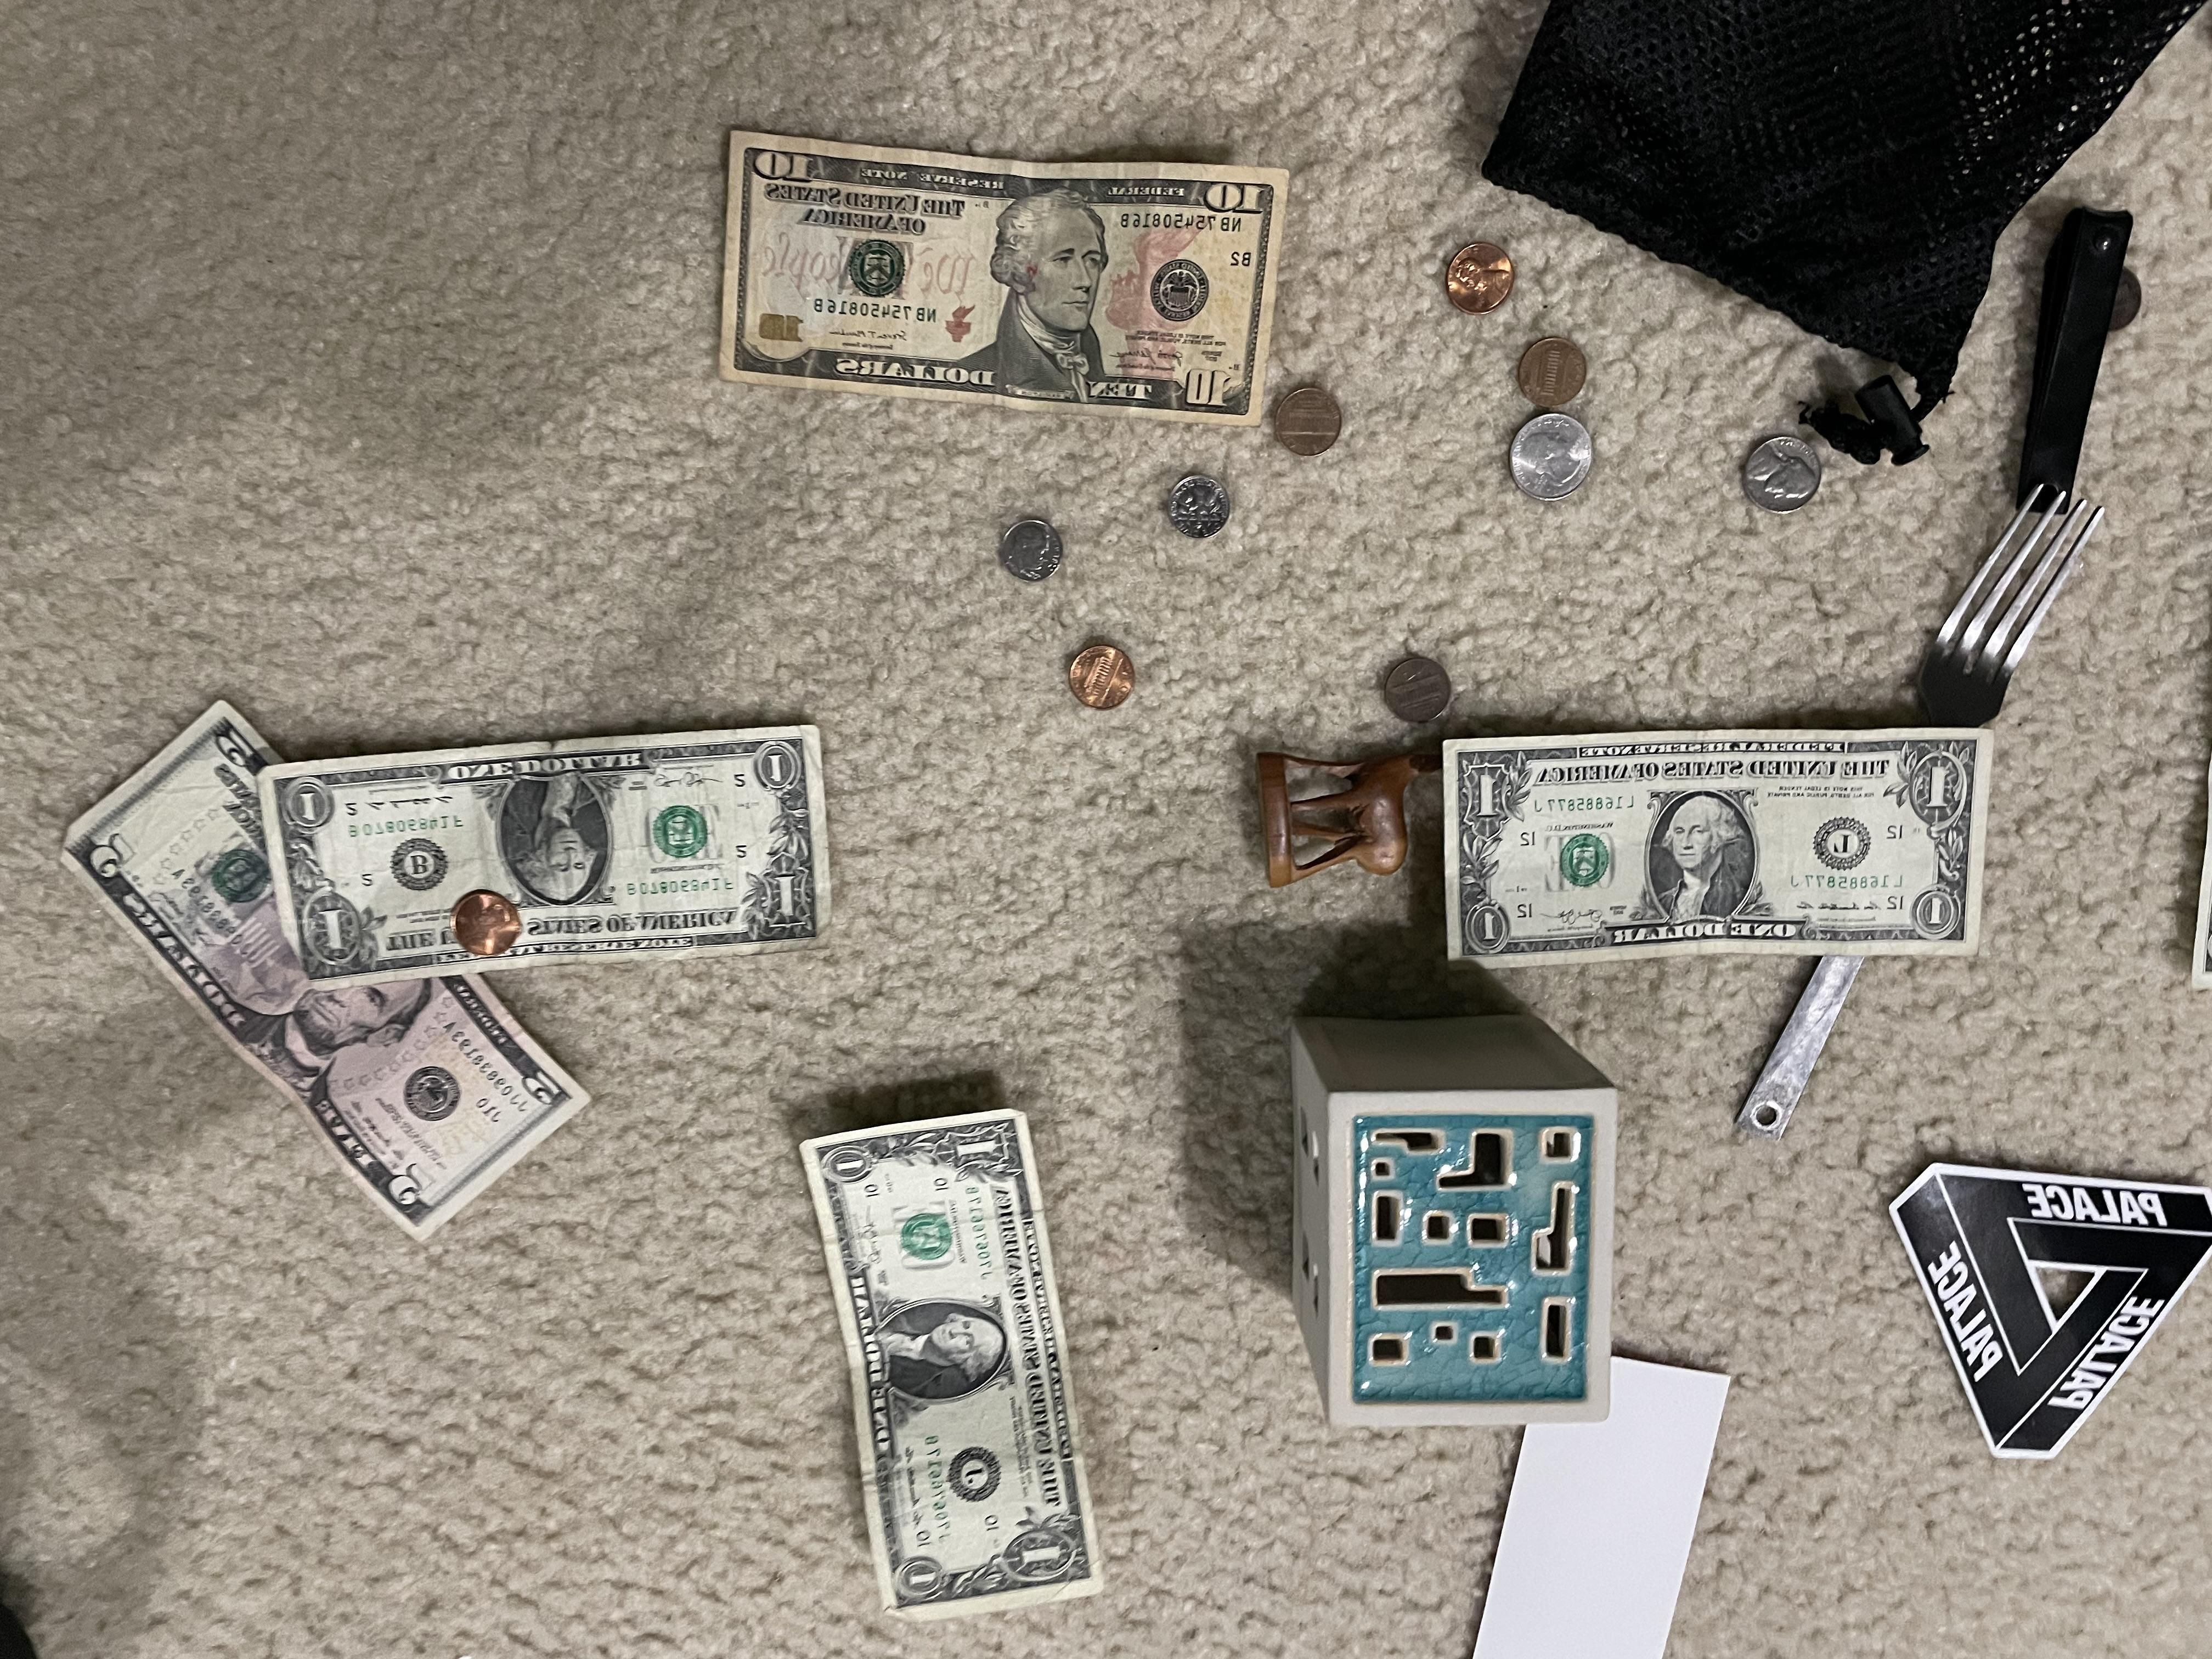Dime: (1515, 336, 1595, 410), (1165, 472, 1240, 549), (1000, 521, 1073, 592)
FiveBill: (64, 687, 599, 1237)
Nickel: (1737, 429, 1829, 518)
OneBill: (791, 1072, 1115, 1633), (256, 718, 852, 993), (1440, 716, 2005, 976)
Penny: (444, 875, 538, 958), (1439, 237, 1529, 321), (1062, 638, 1139, 714), (1270, 385, 1345, 464), (1386, 647, 1453, 725)
Quarter: (1508, 410, 1601, 504)
TenBill: (690, 105, 1306, 432)
